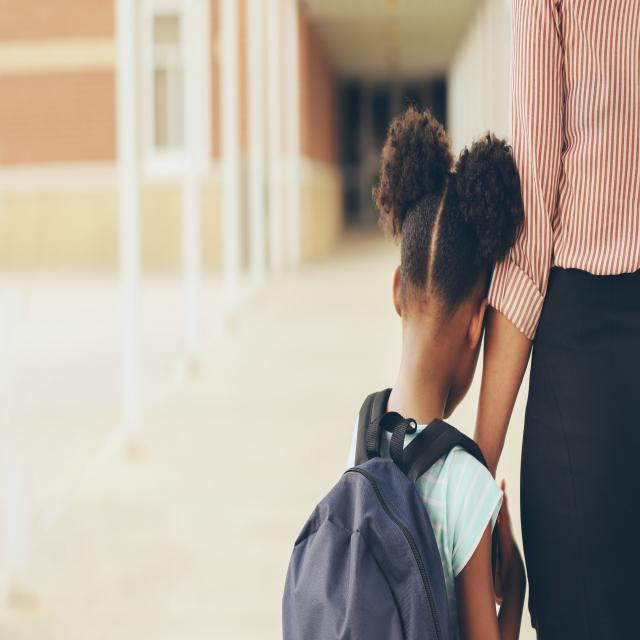adult: (476, 0, 640, 640)
child: (281, 107, 523, 640)
